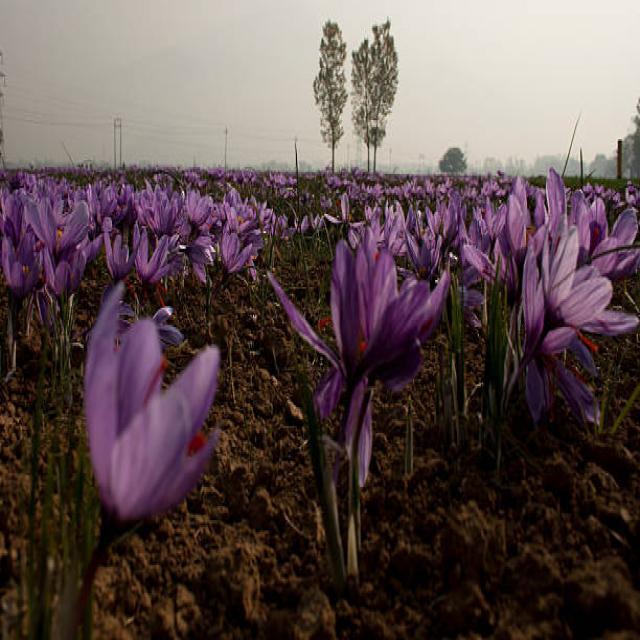saffron open: (85, 283, 220, 524), (1, 231, 39, 299), (135, 229, 170, 287)
